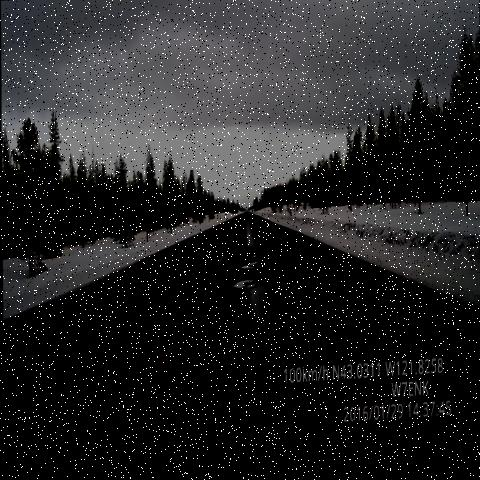pothole: (230, 276, 262, 304), (237, 245, 263, 279)
